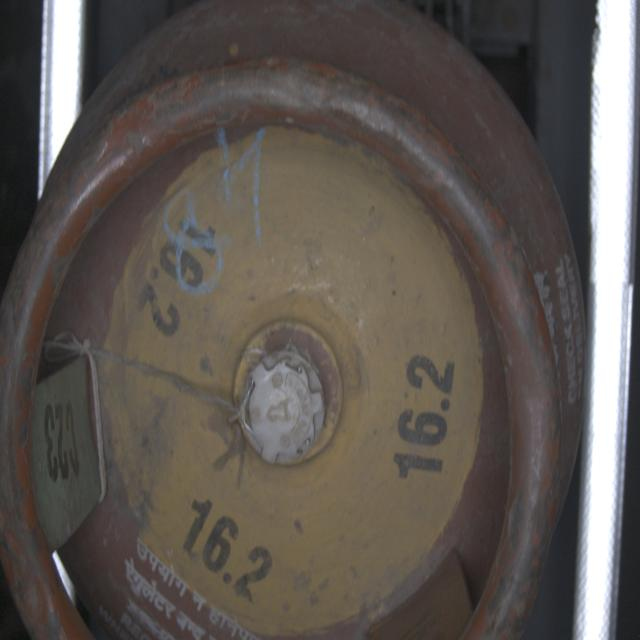Cap: (240, 346, 330, 467)
